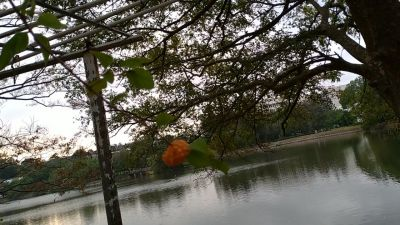eggs: (161, 138, 192, 167)
